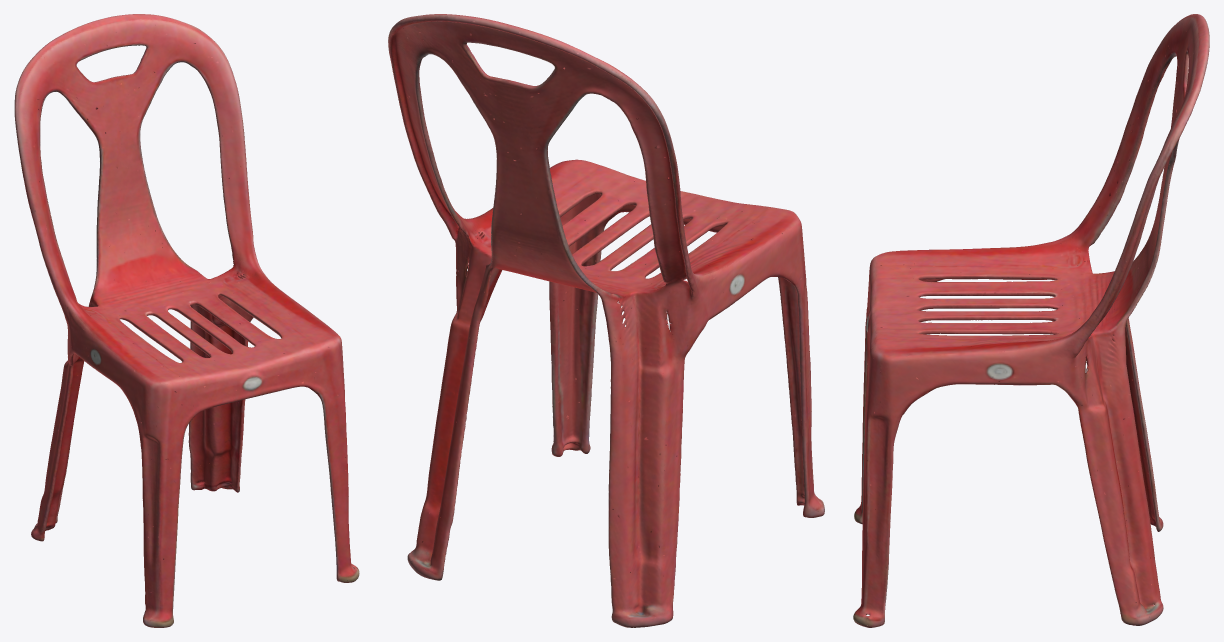
File: Red_Chair_0318133419_texture.fbx
3 renders of one model, left to right at view 1: azimuth 30°, elevation 25°; view 2: azimuth 150°, elevation 25°; view 3: azimuth 270°, elevation 25°, orthographic. The views are drawn at different scales.
Parts seen in each view (by area): view 1: Mesh1; view 2: Mesh1; view 3: Mesh1.
Boxes of the visible parts, left/top/right/bottom form: Mesh1: left=14, top=14, right=359, bottom=627; Mesh1: left=388, top=14, right=824, bottom=627; Mesh1: left=853, top=14, right=1209, bottom=627.
Bounding box in the file's own units: 97.33 × 200 × 121.
1 material, 1 textured.
